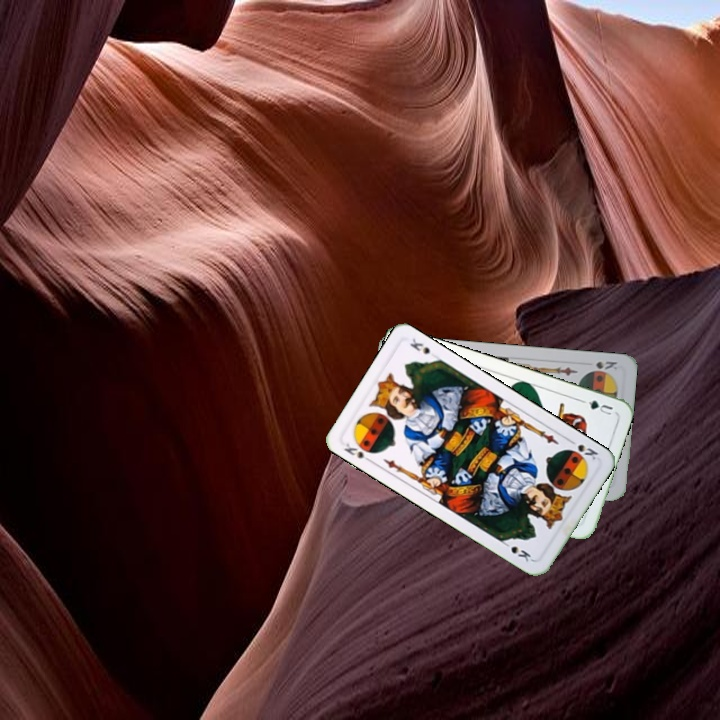GU: (584, 396, 615, 418)
SK: (562, 435, 601, 463), (340, 439, 376, 466), (592, 357, 620, 372)
